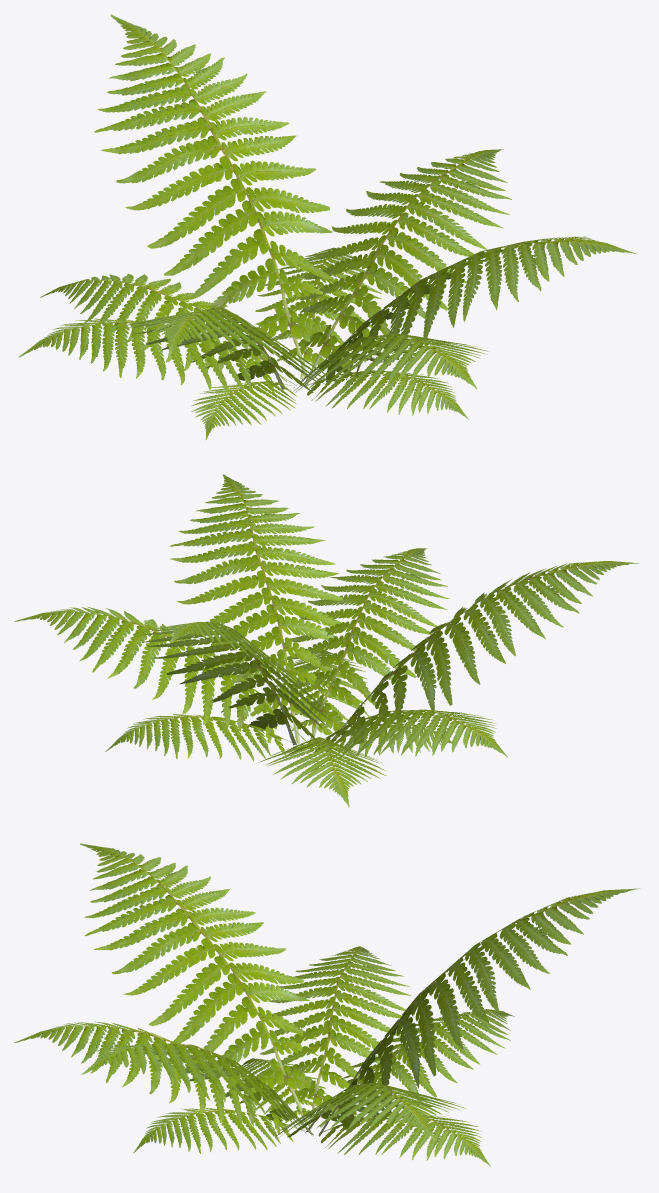
File: fern.glb
3 renders of one model, top to bottom at view 1: azimuth 30°, elevation 25°; view 2: azimuth 150°, elevation 25°; view 3: azimuth 270°, elevation 25°, orthographic. The views are drawn at different scales.
Visible parts, largest first — view 1: Tree_0; view 2: Tree_0; view 3: Tree_0.
Part boxes in pixels (x1,y1,x2,y2): Tree_0: (18,14,636,440); Tree_0: (14,474,638,807); Tree_0: (14,843,640,1166).
Bounding box in the file's own units: 2.17 × 0.9346 × 2.26.
Materials: 1 (1 with a texture image).
